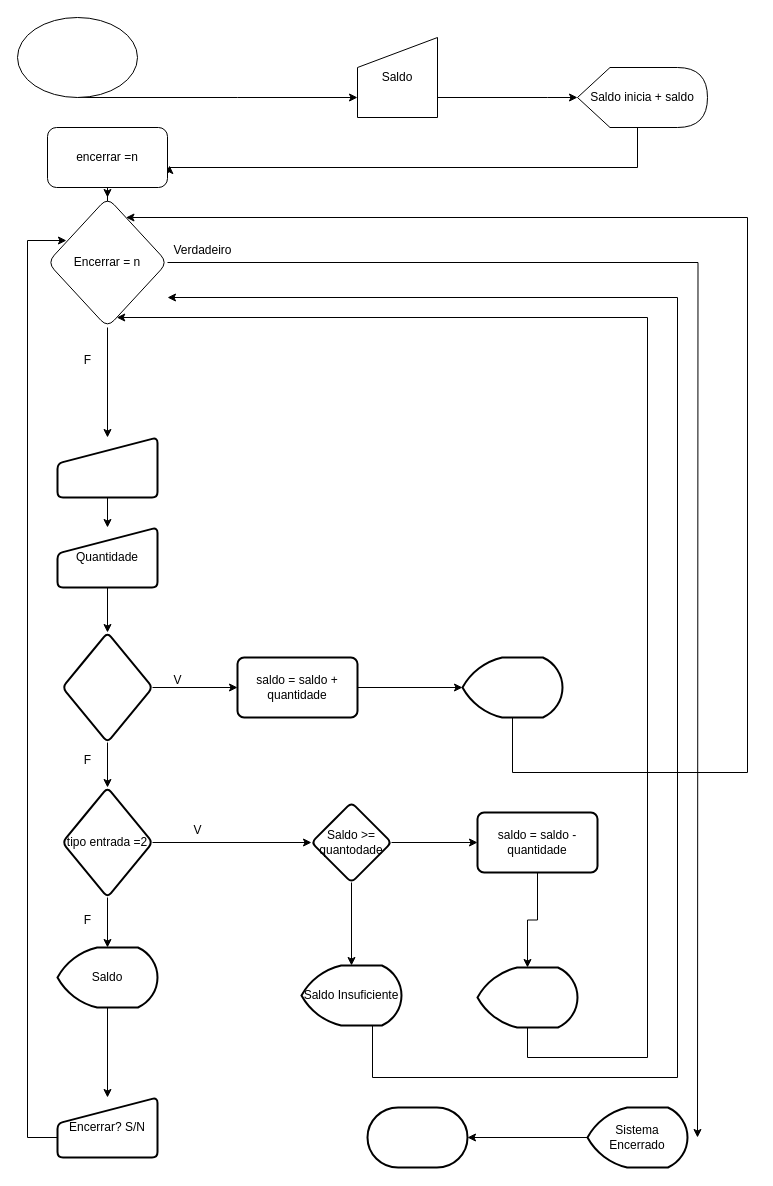
This 773x1186 diagram has some shape labels left out. Here are the shapes that lost their labels. From the top down, the centre of each, then its label:
pixel 77 57: início
pixel 107 467: tipo de entrada
pixel 107 687: tipo entrada =1
pixel 512 687: "Entrada: " + Quantidade
pixel 527 997: "Saída: "+ quantidade
pixel 417 1137: FIM
